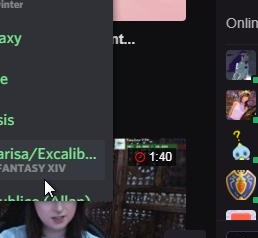cursor: (41, 177, 58, 199)
